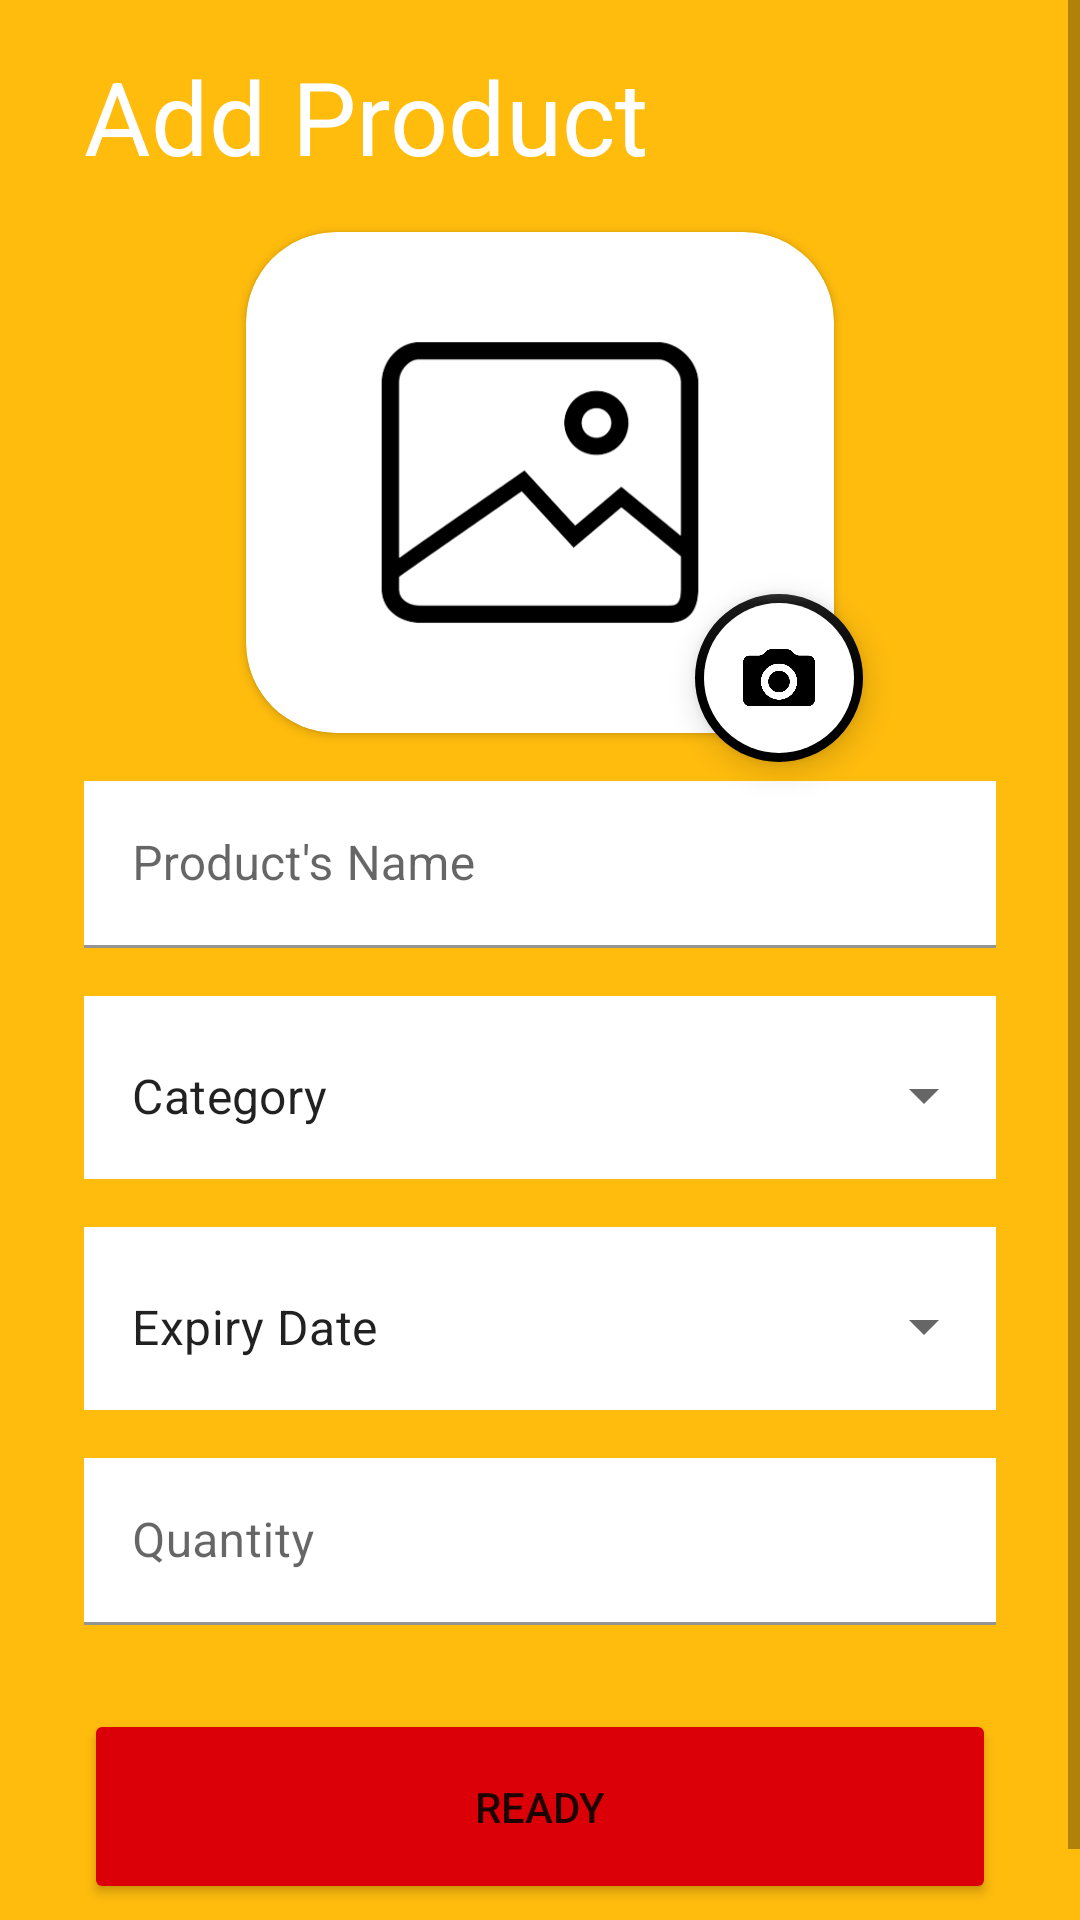

Named icons in this screenshot (1080×1920) and their centers, point (x, y):
oojs ui camera: point (779, 678)
